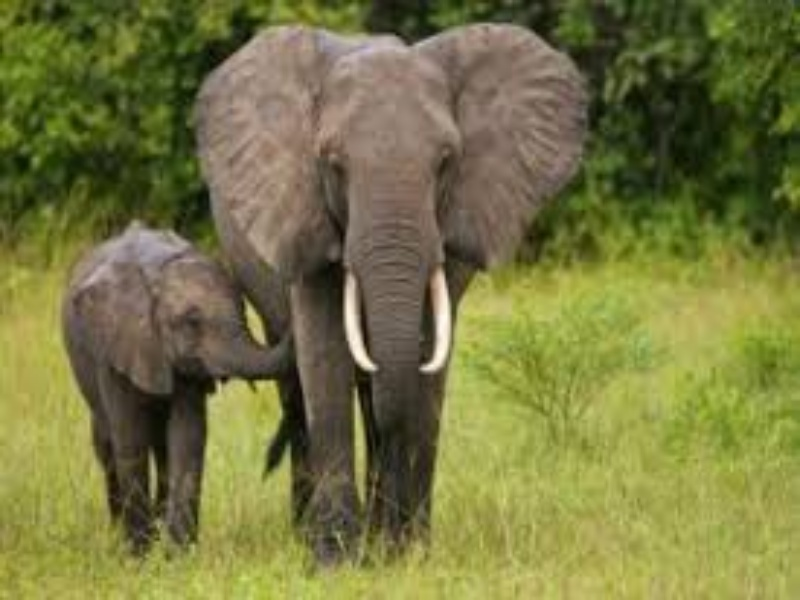elephant: (41, 20, 631, 573)
